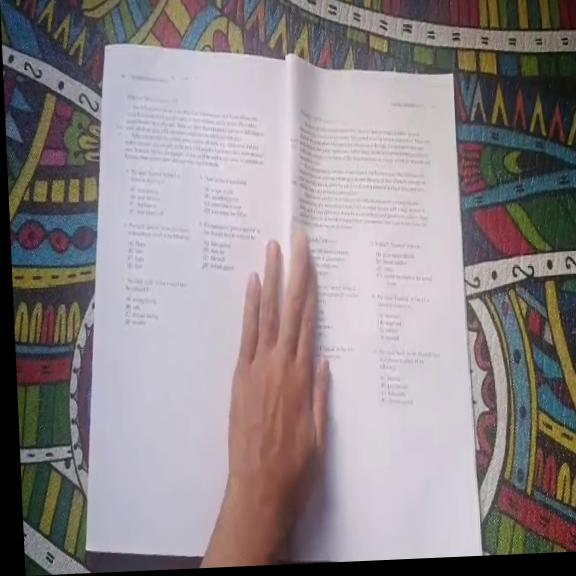Kertas: (87, 46, 289, 555), (287, 56, 480, 561)
